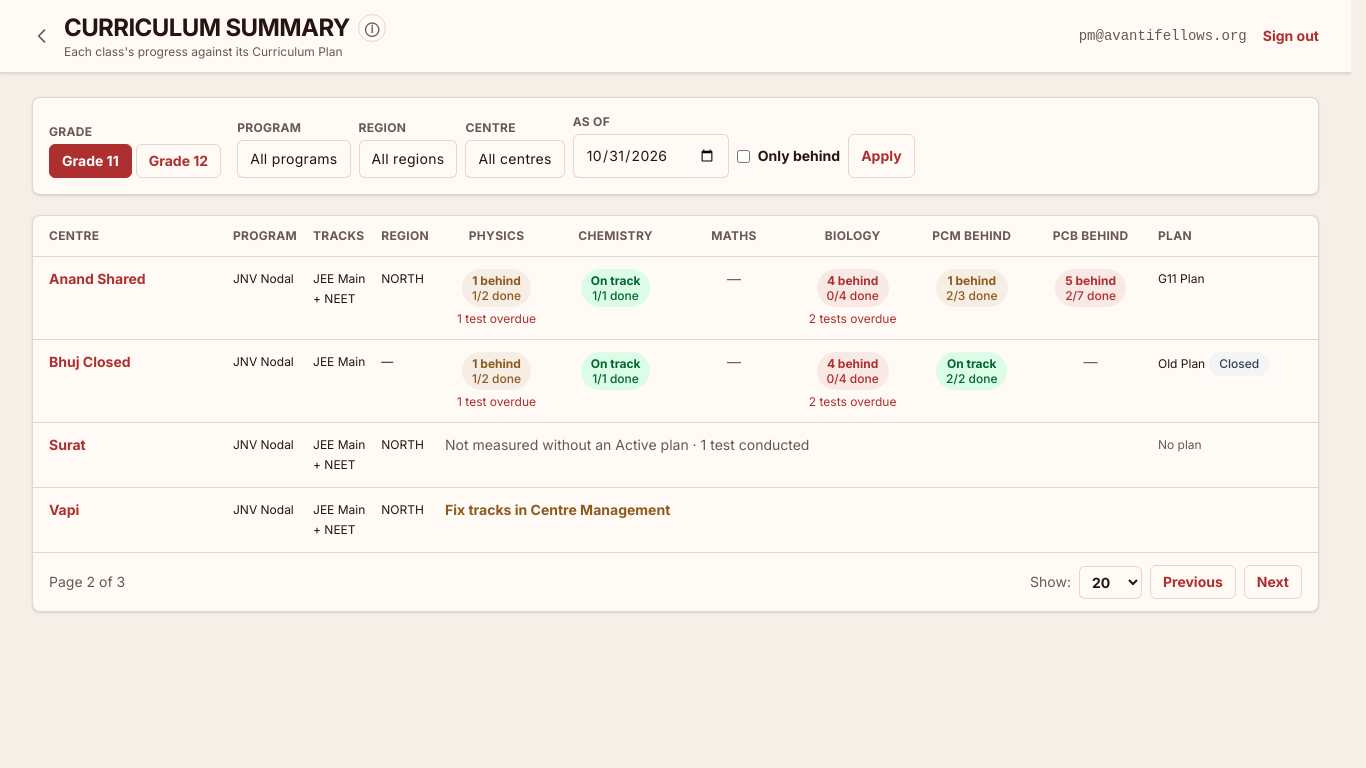
Test: Curriculum Summary page › puts the How to read this page guide beside the title
Expected: the heading "Curriculum Summary" is shown, [64,12,350,44]
Click the button named "How to read this page".
click(372, 28)  # box [358,14,386,42]
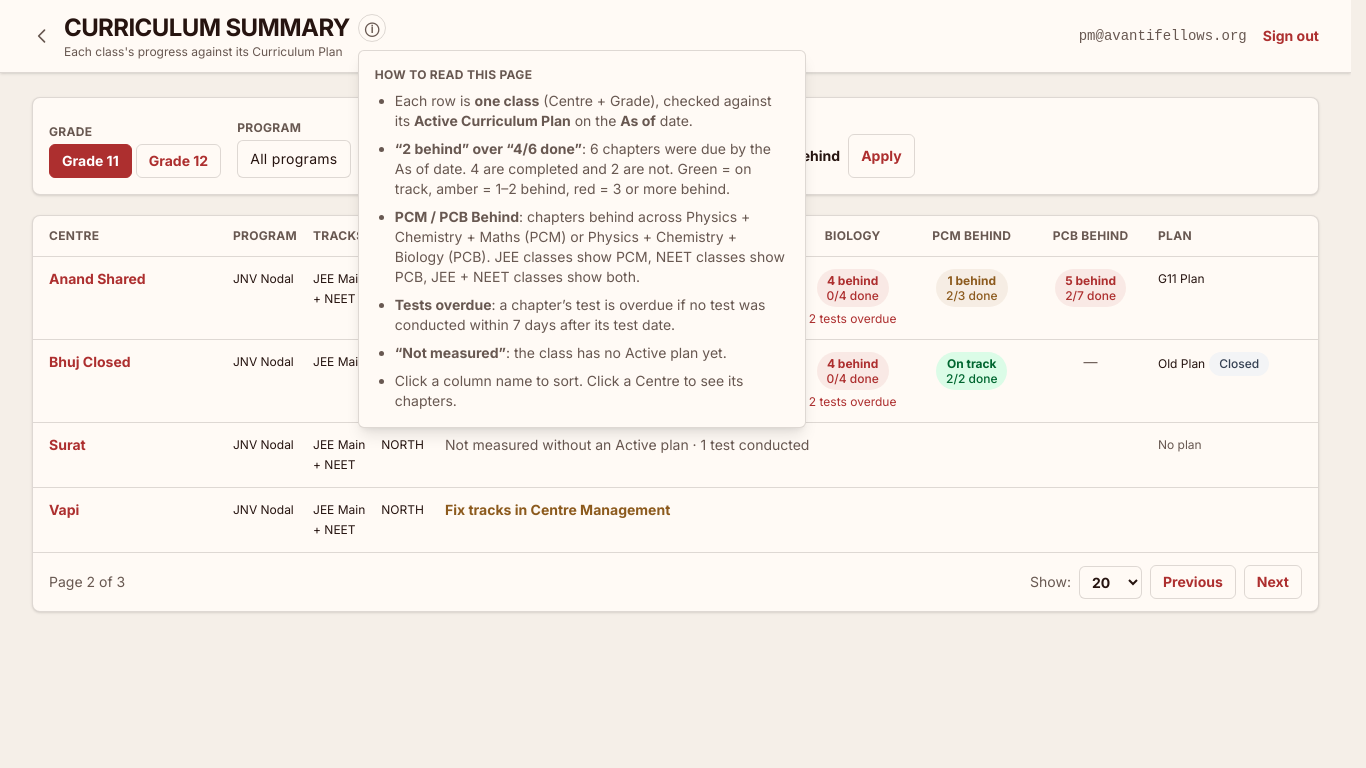
Expected: the list items read "Each row is one class (Centre + Grade), checked against its Active Curriculum Plan on the As of date.", "“2 behind” over “4/6 done”: 6 chapters were due by the As of date. 4 are completed and 2 are not. Green = on track, amber = 1–2 behind, red = 3 or more behind.", "PCM / PCB Behind: chapters behind across Physics + Chemistry + Maths (PCM) or Physics + Chemistry + Biology (PCB). JEE classes show PCM, NEET classes show PCB, ", "Tests overdue: a chapter’s test is overdue if no test was conducted within 7 days after its test date.", "“Not measured”: the class has no Active plan yet.", "Click a column name to sort. Click a Centre to see its chapters.", in this order, [395,91,789,131]; [395,139,789,199]; [395,207,789,287]; [395,295,789,335]; [395,344,727,361]; [395,371,789,411]
